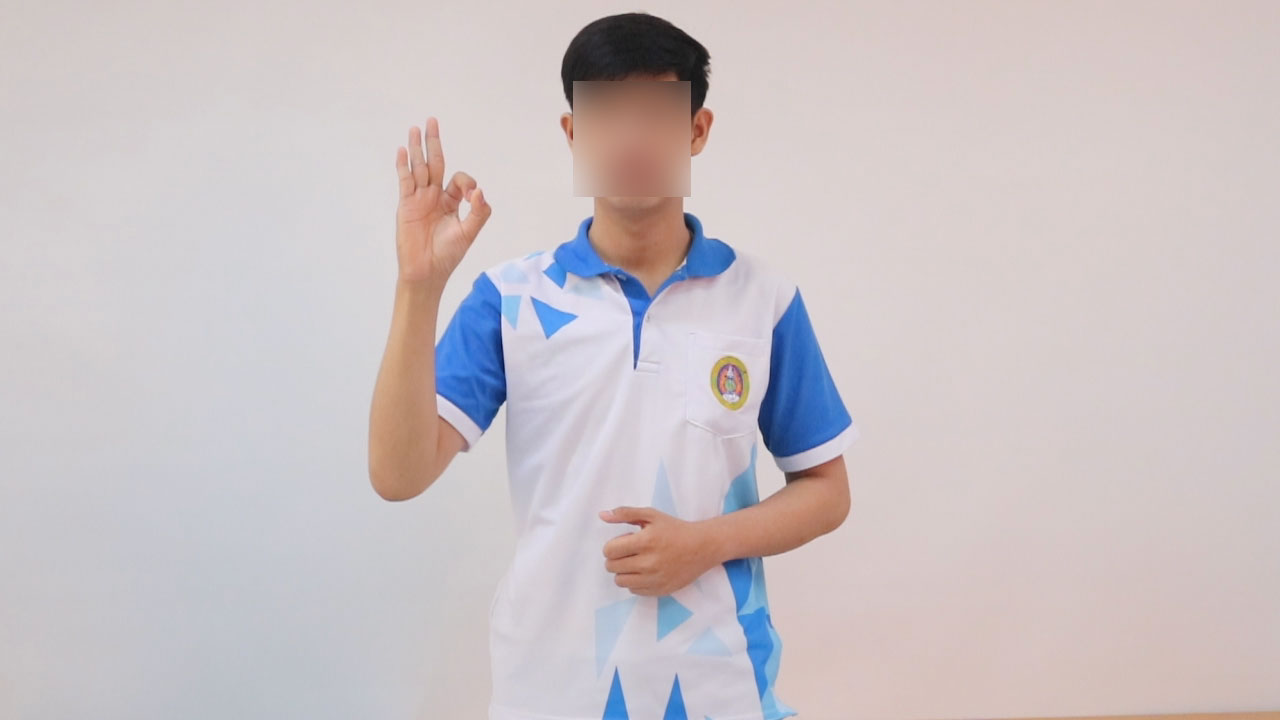for: (378, 104, 498, 300)
